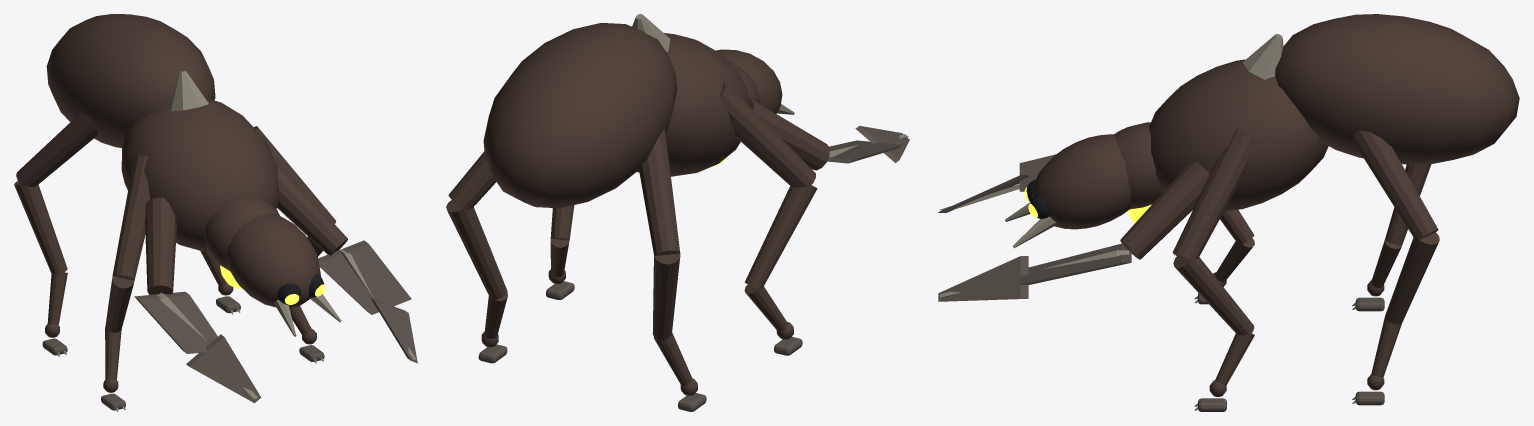
The model's file is XCOM_Chryssalid.fbx.
The picture shows the model from 3 angles, left to right: view 1: azimuth 30°, elevation 25°; view 2: azimuth 150°, elevation 25°; view 3: azimuth 270°, elevation 25°; orthographic projection. The views are drawn at different scales.
Parts seen in each view (by area): view 1: XCOM_Chryssalid; view 2: XCOM_Chryssalid; view 3: XCOM_Chryssalid.
Part boxes in pixels (x1,y1,x2,y2): XCOM_Chryssalid: [14, 14, 417, 411]; XCOM_Chryssalid: [446, 14, 909, 411]; XCOM_Chryssalid: [938, 14, 1519, 411].
Size of the model in its own units: 0.8231 by 1.03 by 1.62.
